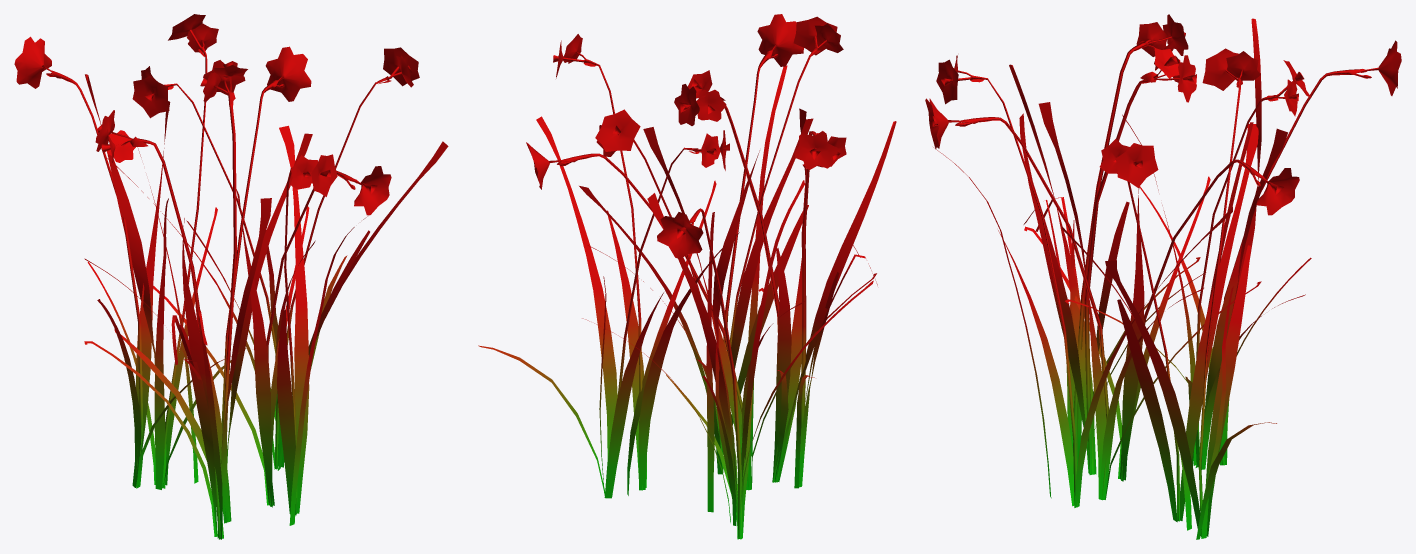
Rendered from Rush Daffodil_LOD3_Var3_wftgfjaia.fbx.
The picture shows the model from 3 angles, left to right: view 1: azimuth 30°, elevation 25°; view 2: azimuth 150°, elevation 25°; view 3: azimuth 270°, elevation 25°; orthographic projection. The views are drawn at different scales.
Parts seen in each view (by area): view 1: _9i1q_var3_LOD3; view 2: _9i1q_var3_LOD3; view 3: _9i1q_var3_LOD3.
Boxes of the visible parts, x1=… form: _9i1q_var3_LOD3: x1=14, y1=14, x2=448, y2=539; _9i1q_var3_LOD3: x1=478, y1=14, x2=896, y2=539; _9i1q_var3_LOD3: x1=925, y1=14, x2=1401, y2=539.
Size of the model in its own units: 29.63 by 35.91 by 34.29.
